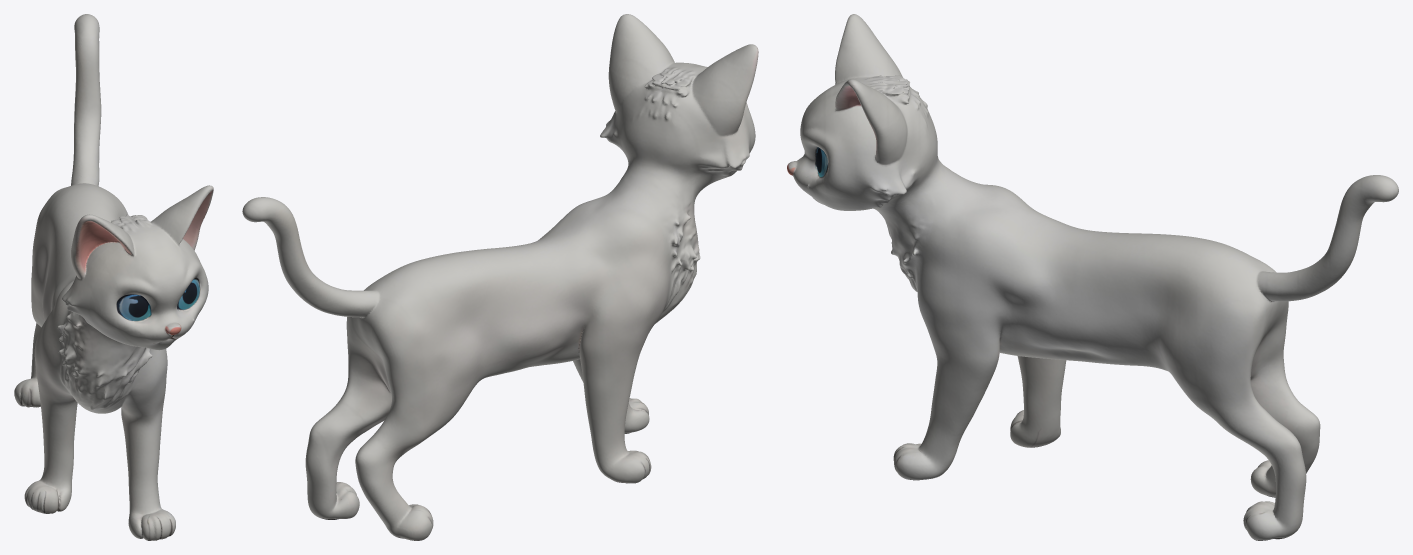
Rendered from stylized-white-cat-3d-model.glb.
3 views of the same model, side by side, from view 1: azimuth 30°, elevation 25°; view 2: azimuth 150°, elevation 25°; view 3: azimuth 270°, elevation 25° (orthographic). The views are drawn at different scales.
Parts seen in each view (by area): view 1: tripo_node_f50a2915-be2c-4a0a-9bd2-fbf1c69fa867; view 2: tripo_node_f50a2915-be2c-4a0a-9bd2-fbf1c69fa867; view 3: tripo_node_f50a2915-be2c-4a0a-9bd2-fbf1c69fa867.
Boxes of the visible parts, <box> form: tripo_node_f50a2915-be2c-4a0a-9bd2-fbf1c69fa867: <box>14,14,213,540</box>; tripo_node_f50a2915-be2c-4a0a-9bd2-fbf1c69fa867: <box>242,14,758,540</box>; tripo_node_f50a2915-be2c-4a0a-9bd2-fbf1c69fa867: <box>787,14,1398,540</box>.
Size of the model in its own units: 0.5353 by 0.7365 by 1.
Materials: 1 (1 with a texture image).
